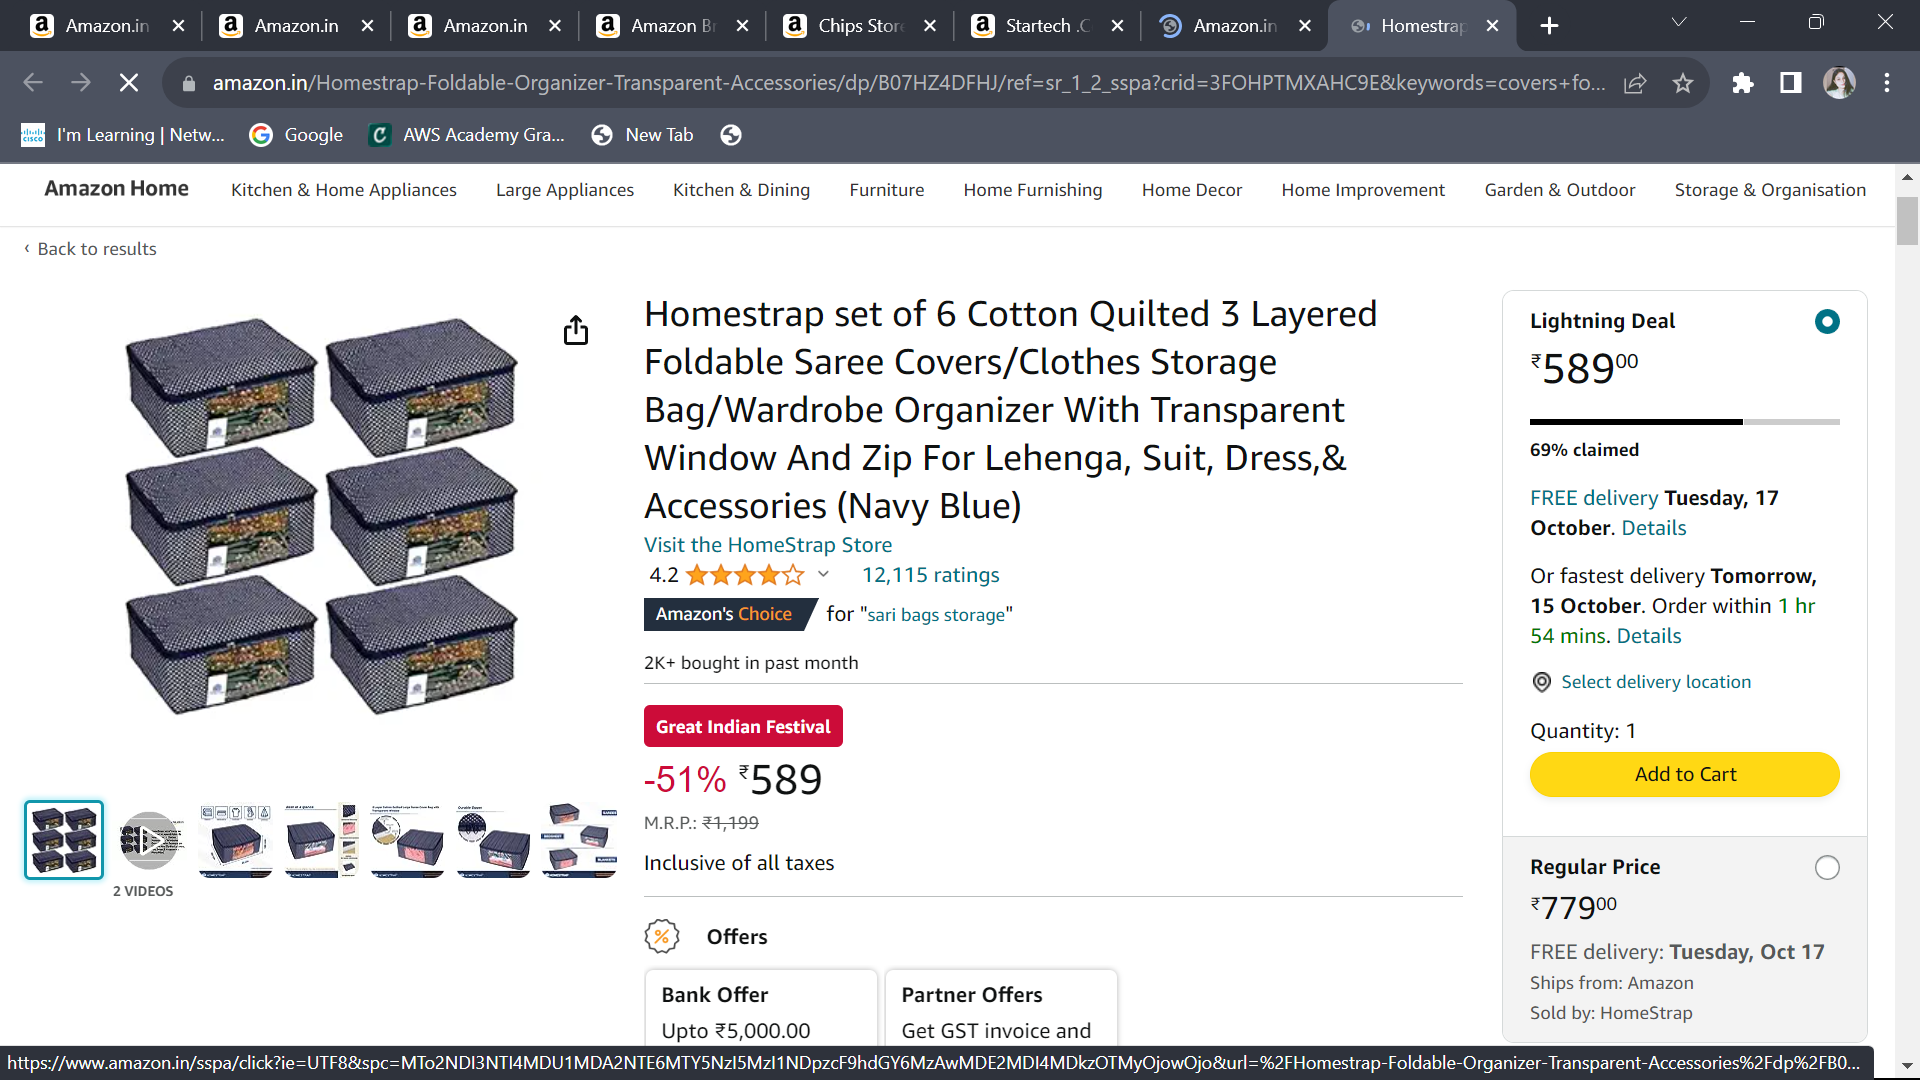Image: (42, 284, 562, 758)
Paragraph: (630, 274, 1391, 534), (1520, 843, 1875, 1069), (618, 926, 1159, 1051), (1490, 489, 1866, 659), (1509, 744, 1866, 833), (633, 538, 1027, 607), (1523, 305, 1753, 415), (628, 806, 869, 902), (628, 735, 916, 803), (1511, 425, 1774, 493), (1511, 675, 1780, 699), (1509, 711, 1660, 749), (0, 241, 196, 266)
